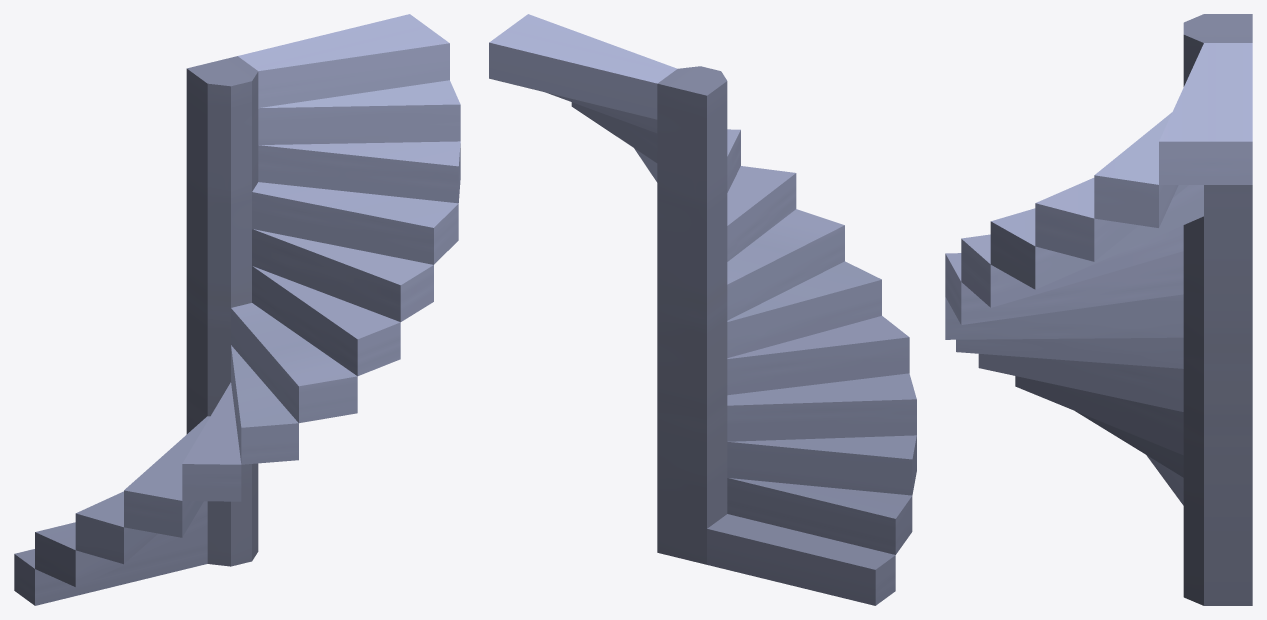
The model's file is stairsStoneRound.fbx.
3 views of the same model, side by side, from view 1: azimuth 30°, elevation 25°; view 2: azimuth 150°, elevation 25°; view 3: azimuth 270°, elevation 25° (orthographic). The views are drawn at different scales.
Visible parts, largest first — view 1: stairsStoneRound; view 2: stairsStoneRound; view 3: stairsStoneRound.
Boxes of the visible parts, x1=… form: stairsStoneRound: x1=14, y1=14, x2=460, y2=605; stairsStoneRound: x1=489, y1=14, x2=916, y2=605; stairsStoneRound: x1=945, y1=14, x2=1252, y2=605.
Size of the model in its own units: 0.8618 by 0.4949 by 1.
